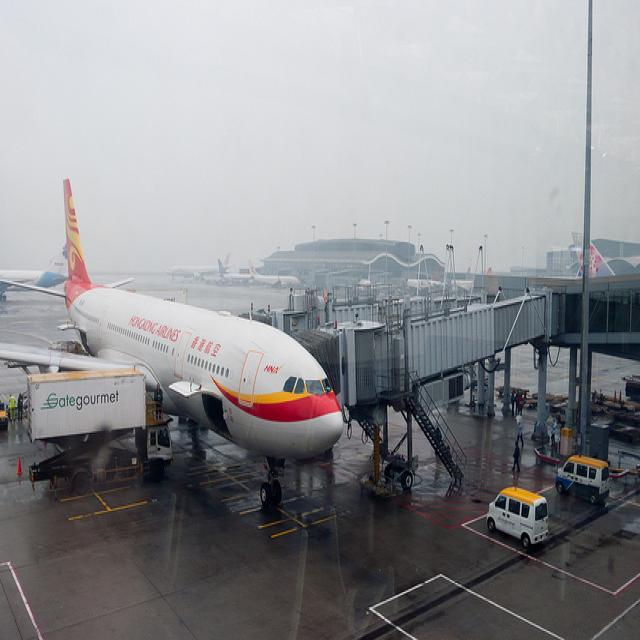Vehicle: (27, 368, 174, 500), (486, 487, 548, 548), (554, 453, 610, 504), (556, 454, 610, 504), (549, 398, 567, 414)
